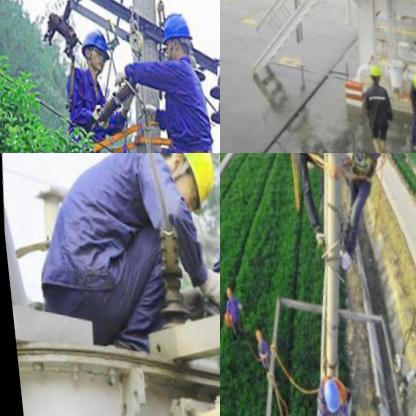helmet: (149, 153, 220, 211), (154, 3, 199, 67), (73, 21, 113, 75), (310, 373, 341, 416), (360, 61, 378, 84), (401, 69, 416, 89), (408, 79, 416, 106)
